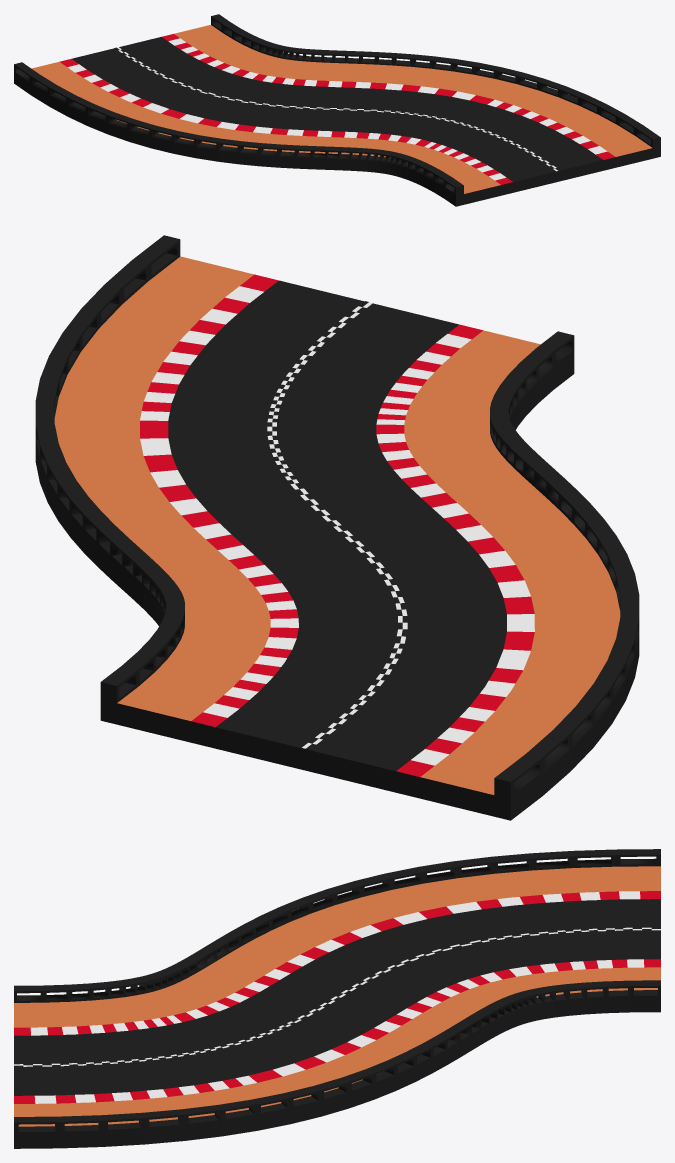
File: ModularTrackSCurveLeft-Deux.fbx
The picture shows the model from 3 angles, top to bottom: view 1: azimuth 30°, elevation 25°; view 2: azimuth 150°, elevation 25°; view 3: azimuth 270°, elevation 25°; orthographic projection. The views are drawn at different scales.
Parts seen in each view (by area): view 1: ModularTrackSCurveLeft, LaneDivider; view 2: ModularTrackSCurveLeft, LaneDivider; view 3: ModularTrackSCurveLeft, LaneDivider.
Boxes of the visible parts, bbox=[...] form: ModularTrackSCurveLeft: bbox=[14, 14, 660, 206]; LaneDivider: bbox=[114, 47, 560, 179]; ModularTrackSCurveLeft: bbox=[35, 235, 639, 820]; LaneDivider: bbox=[267, 301, 407, 770]; ModularTrackSCurveLeft: bbox=[14, 849, 660, 1148]; LaneDivider: bbox=[14, 927, 660, 1066].
Size of the model in its own units: 2000 by 90 by 2000.
